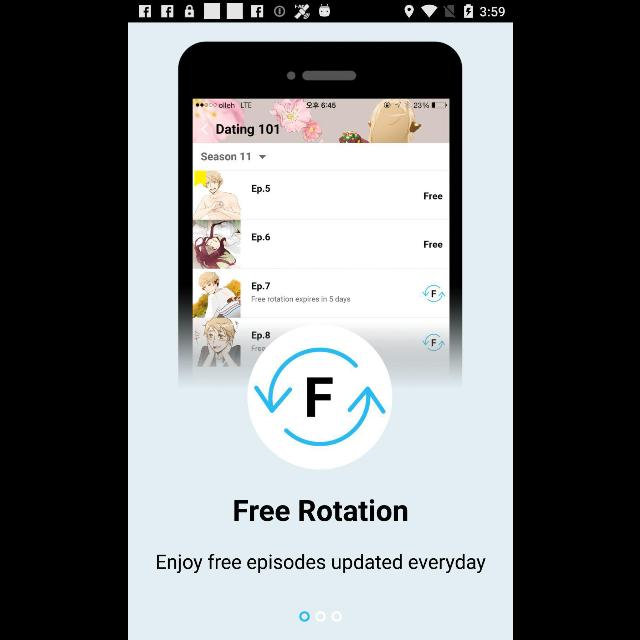image: (176, 42, 462, 470)
pageindicator: (298, 612, 342, 622)
text: (157, 553, 486, 573), (233, 499, 407, 521)
uppertaskbar: (128, 1, 512, 23)
